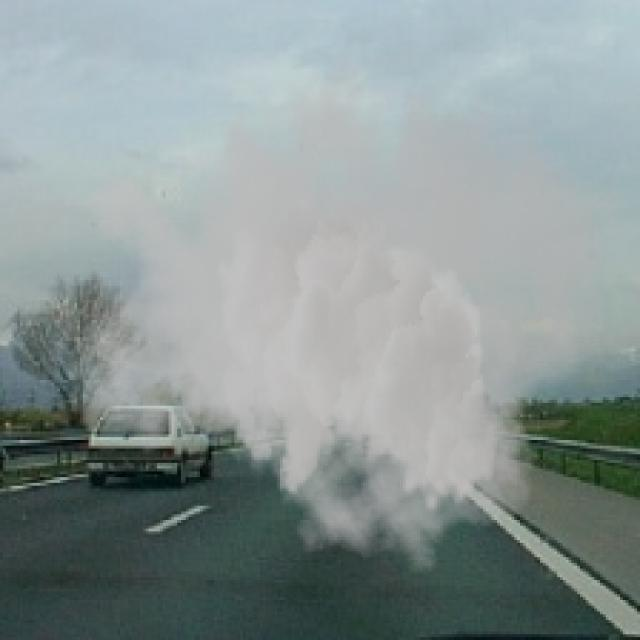smoke: (63, 23, 608, 574)
